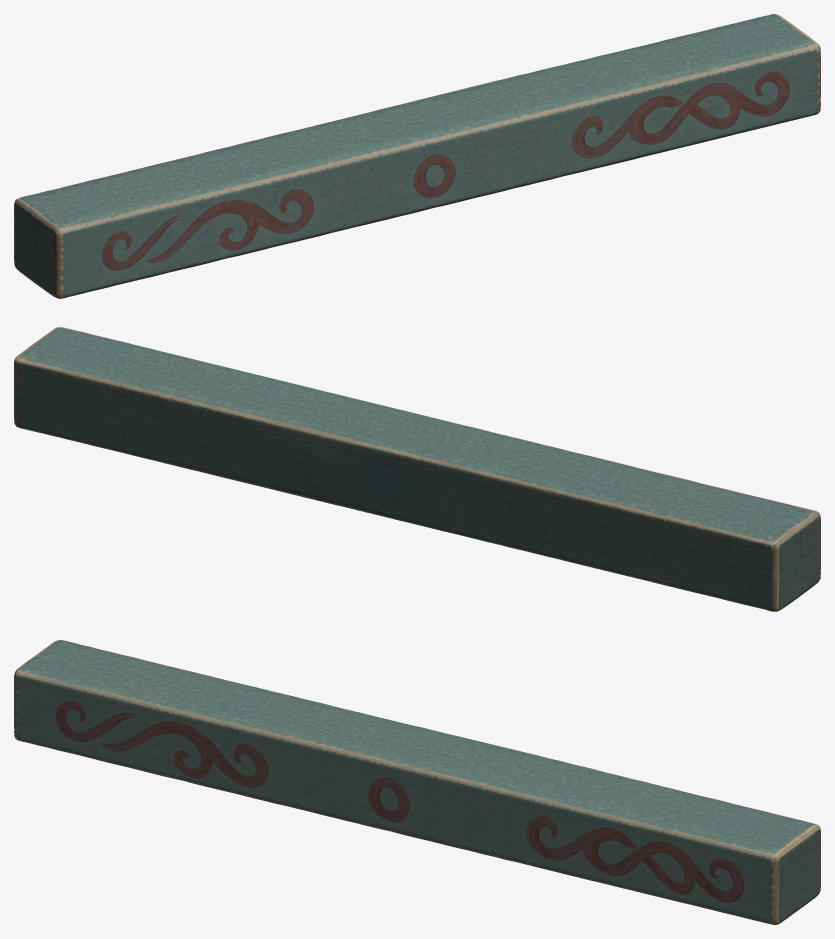
The model's file is Furn_PuppetStage_Header.fbx.
3 views of the same model, one above another, from view 1: azimuth 30°, elevation 25°; view 2: azimuth 150°, elevation 25°; view 3: azimuth 330°, elevation 25° (orthographic).
Parts seen in each view (by area): view 1: texture_mapping; view 2: texture_mapping; view 3: texture_mapping.
Boxes of the visible parts, left/top/right/bottom form: texture_mapping: left=14, top=14, right=820, bottom=298; texture_mapping: left=14, top=327, right=820, bottom=611; texture_mapping: left=14, top=640, right=820, bottom=924.
Bounding box in the file's own units: 1 × 0.1087 × 0.0917.
1 material, 1 textured.
